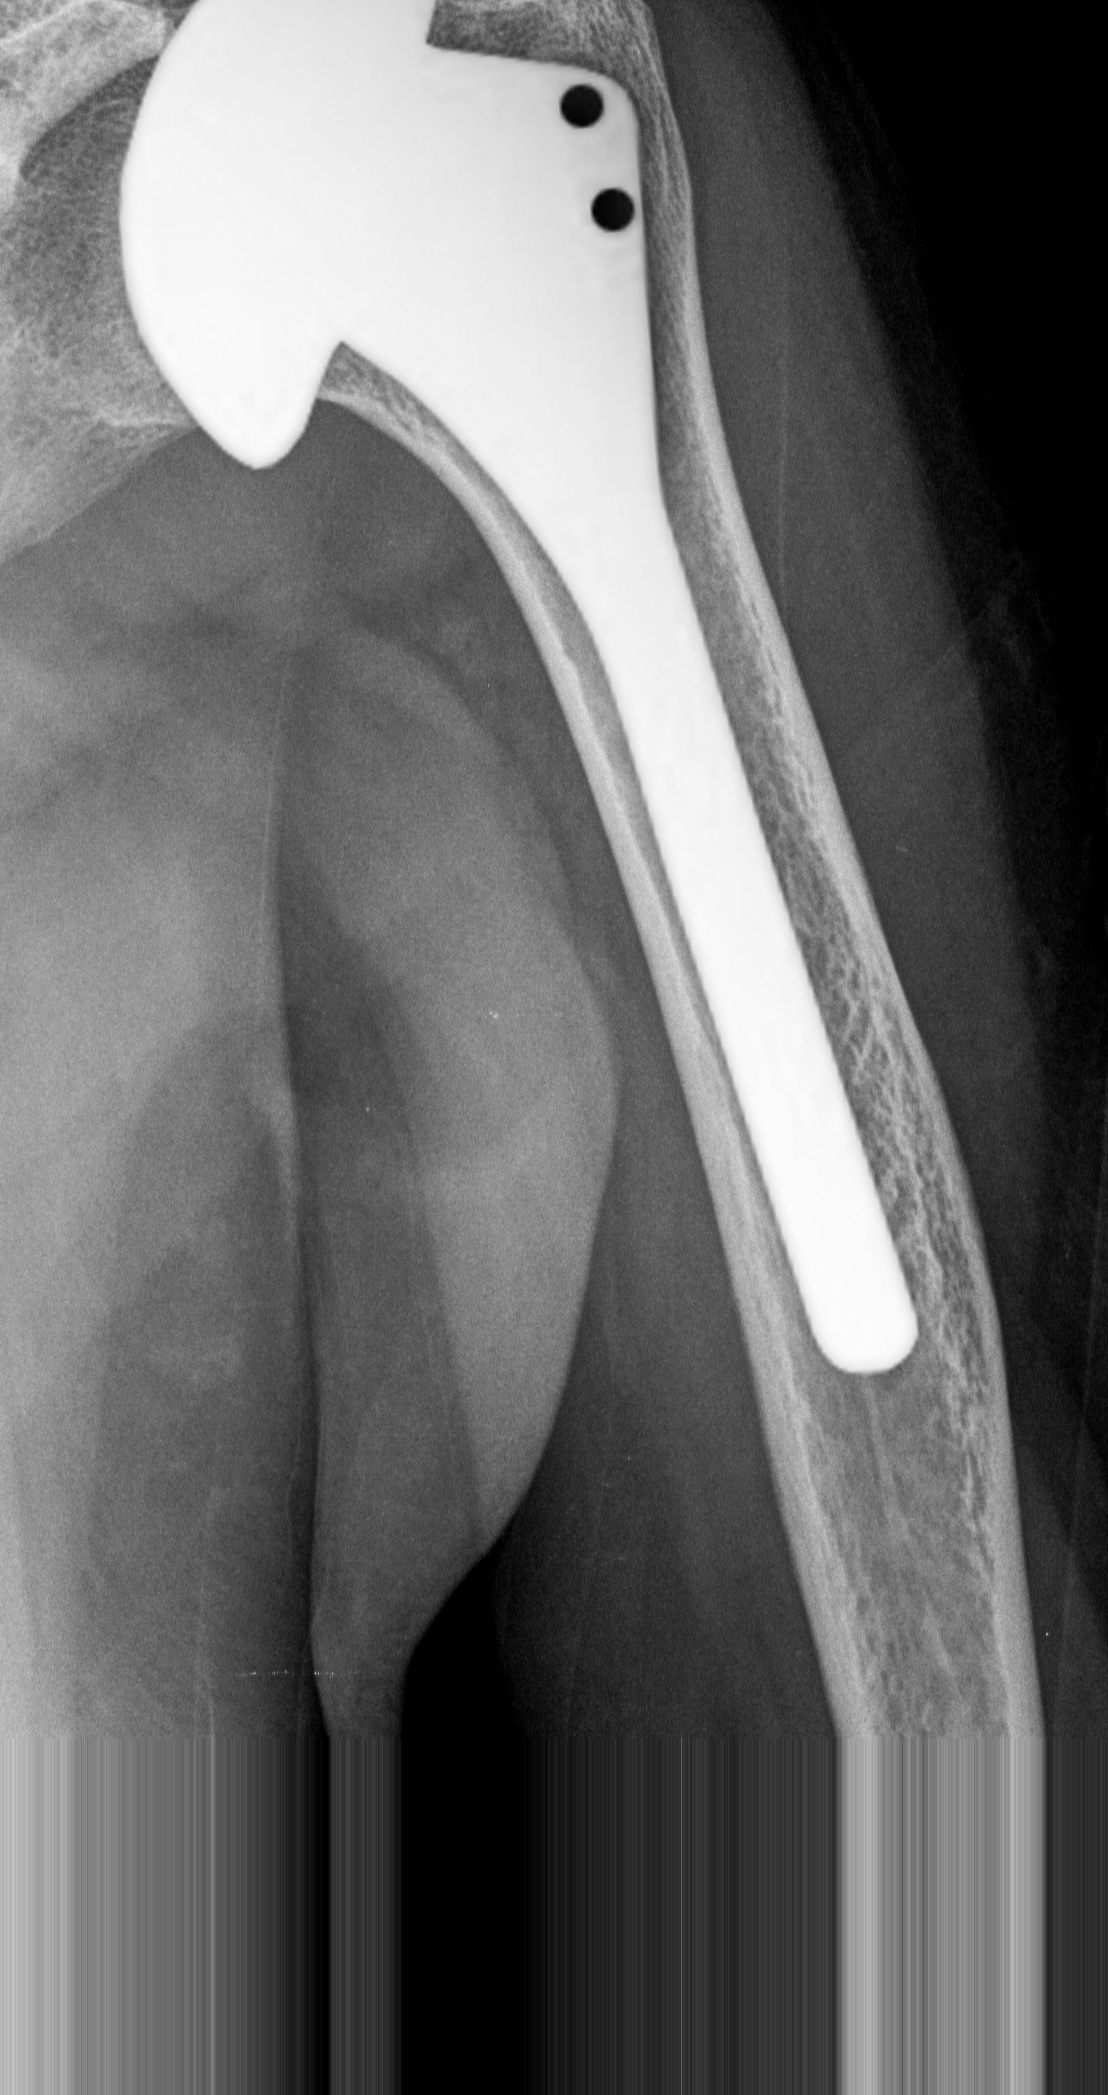Shoulder - Aequalishead - Tornier: (109, 1, 490, 495)
Shoulder - Aequalistail - Tornier: (262, 1, 709, 536)
